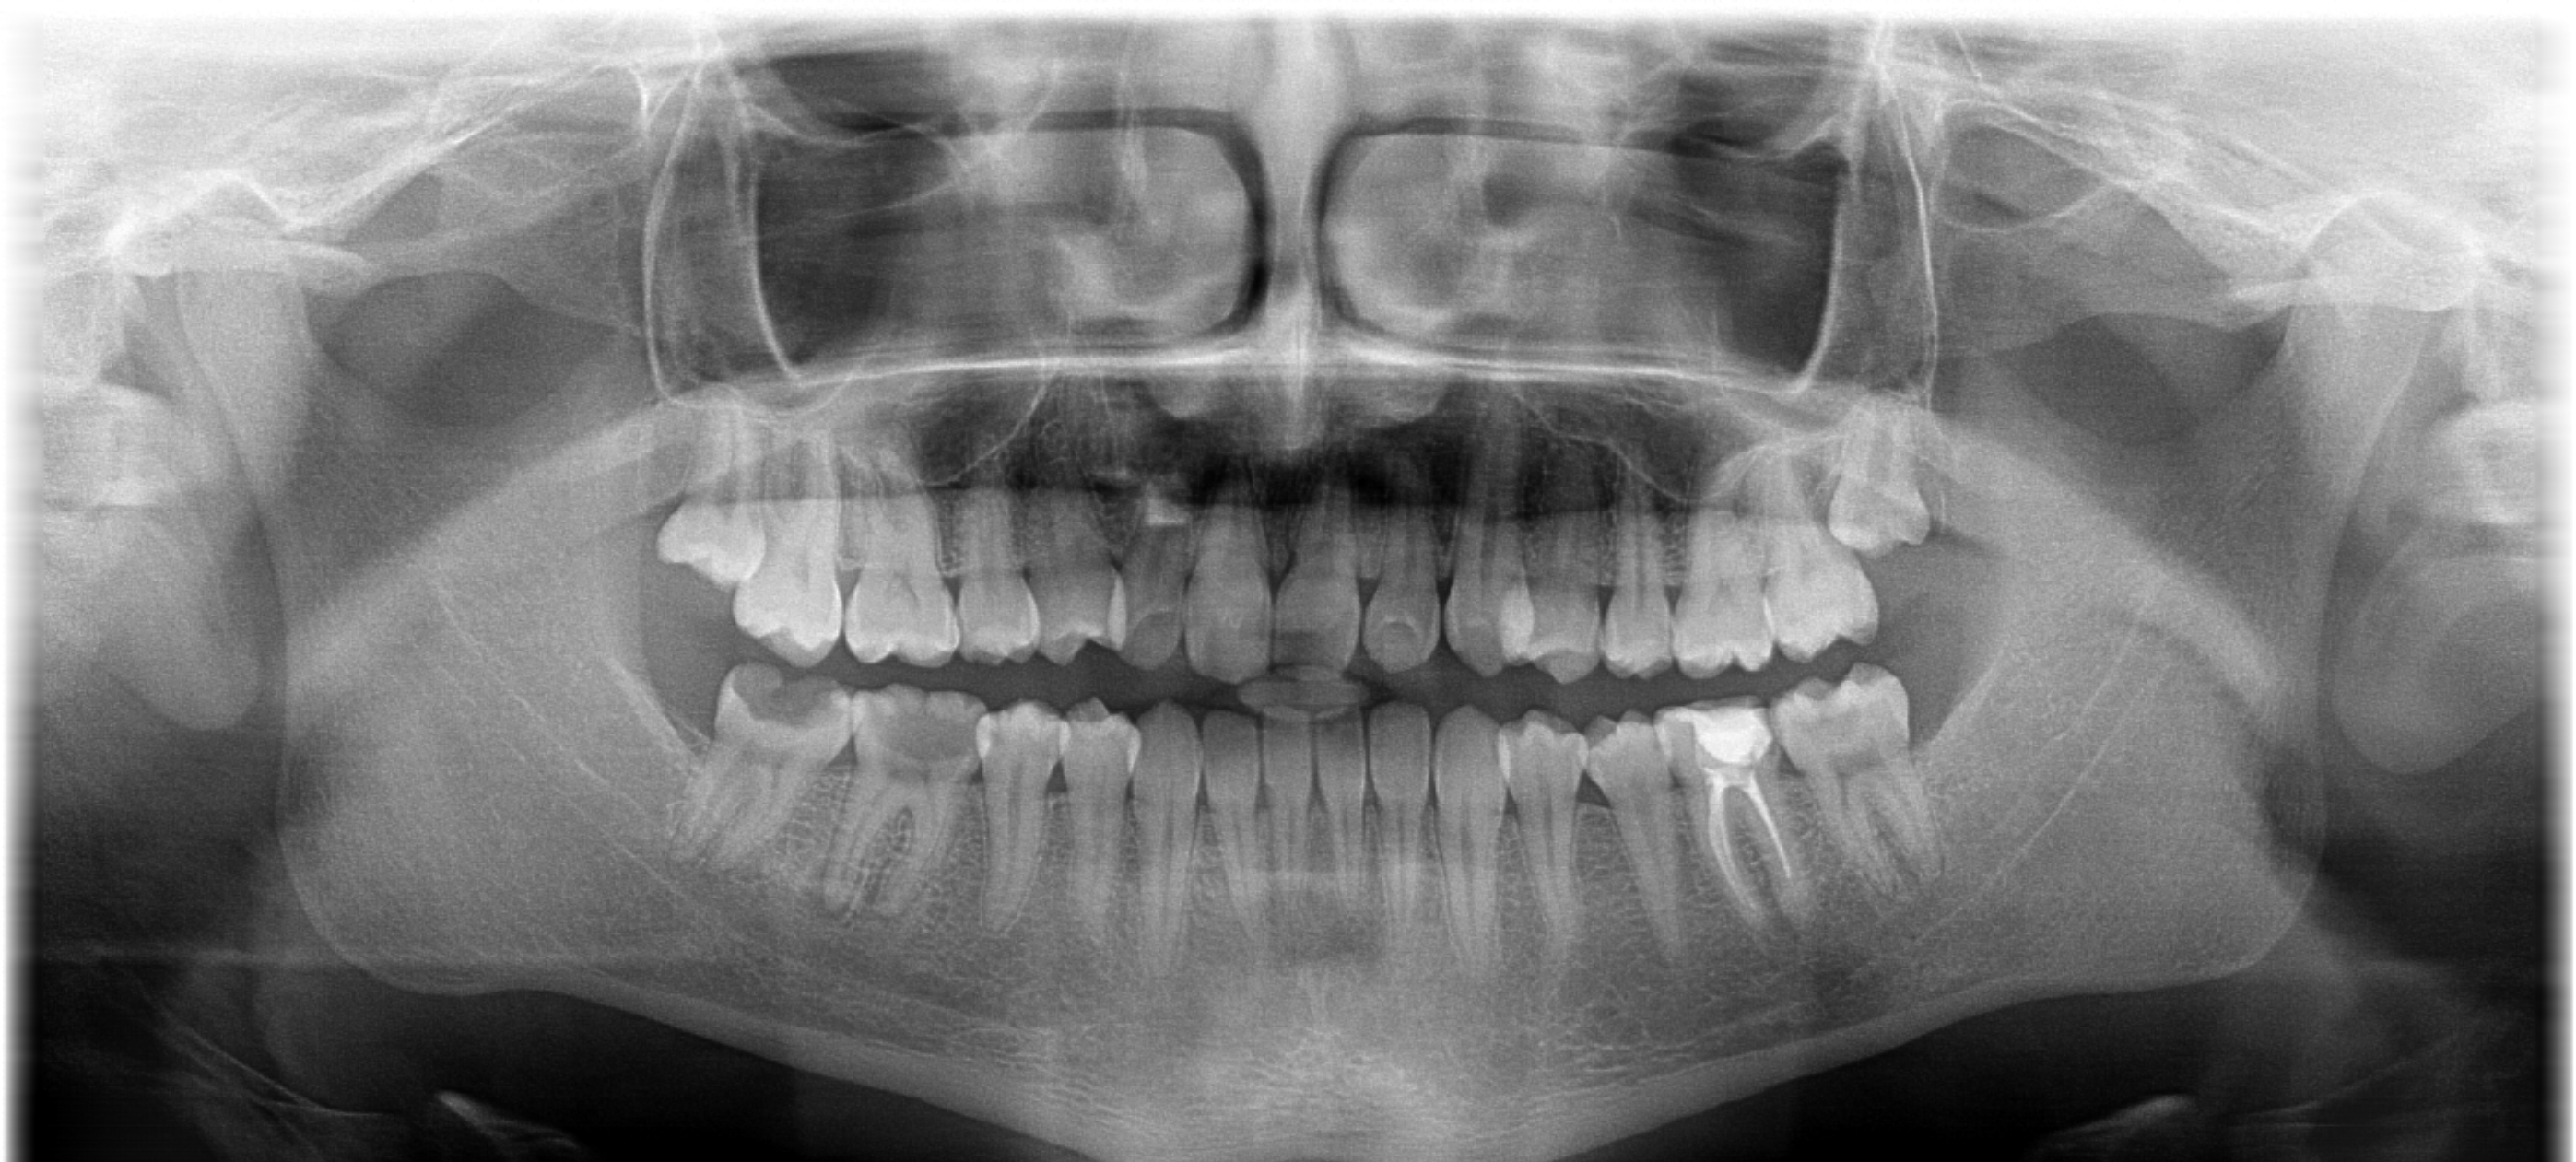cordal: (634, 385, 785, 605), (1802, 383, 1955, 574)
tratamiento_conducto: (1628, 692, 1809, 937)
